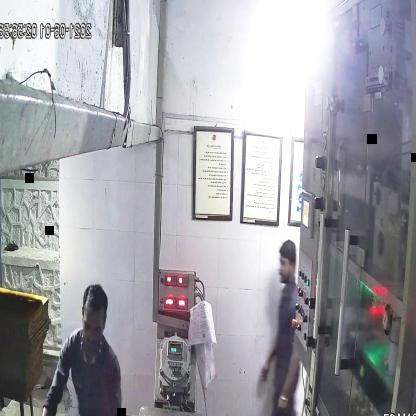no_goggles: (80, 317, 107, 337)
